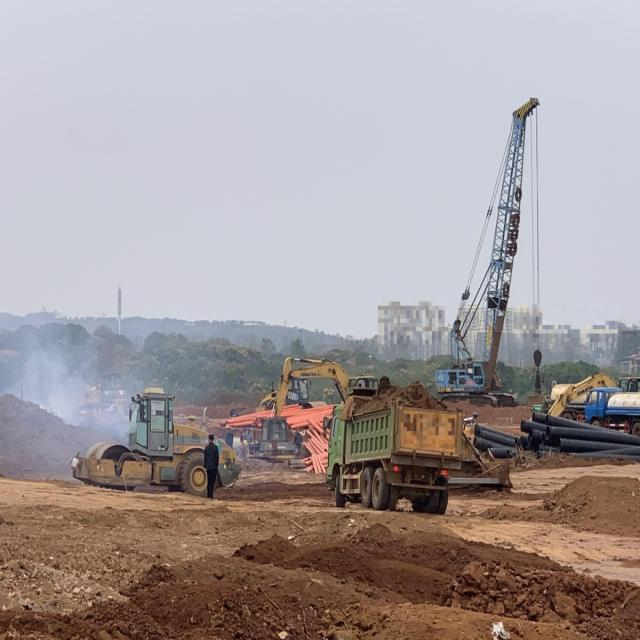crane: (434, 97, 540, 407)
excavator: (269, 356, 378, 418), (547, 371, 640, 416)
truck: (326, 386, 462, 514)
